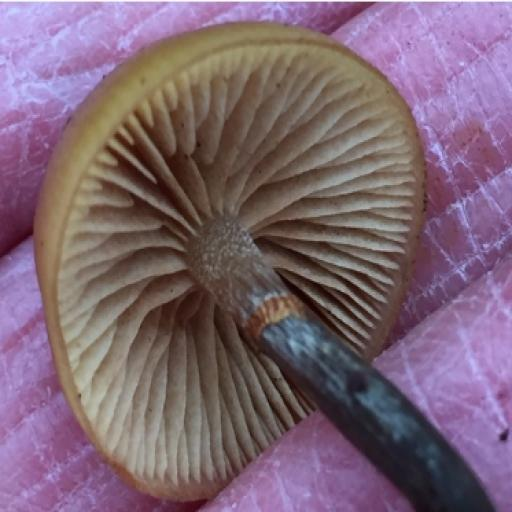mushroom: (27, 22, 492, 512)
